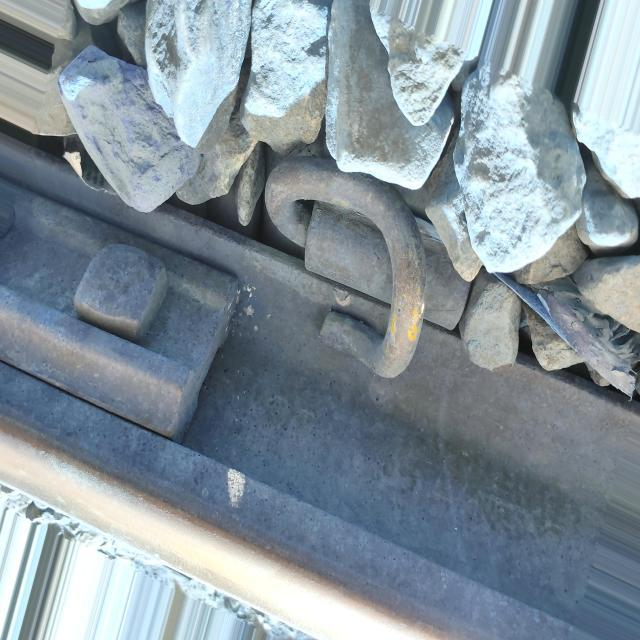Good Fasteners: (265, 156, 470, 378)
